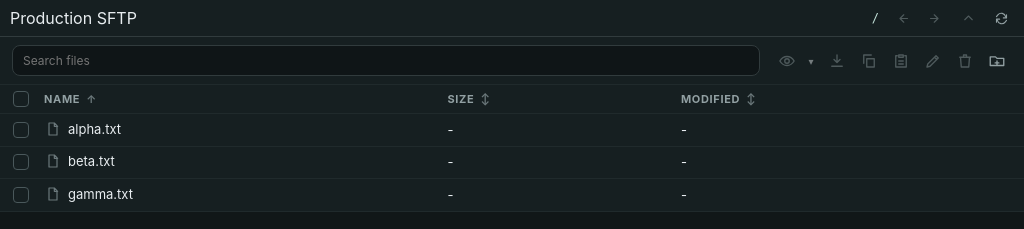
Test: RemoteFilePane › ヘッダーの全選択と検索で表示範囲を絞り込める
Click the checkbox named "Select all" at (21, 99), box [13,91,29,107]
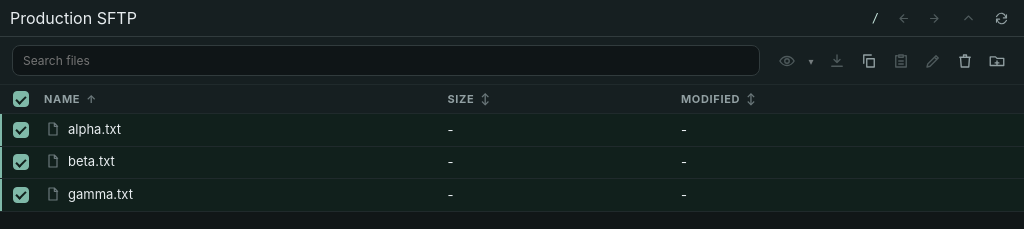
Check: the checkbox named "Select alpha.txt" is checked, box [13,122,29,138]
Check: the checkbox named "Select beta.txt" is checked, box [13,154,29,170]
Check: the checkbox named "Select gamma.txt" is checked, box [13,187,29,203]
Type "beta" into the field with placeholder "Search files" at (386, 60), box [12,45,760,76]
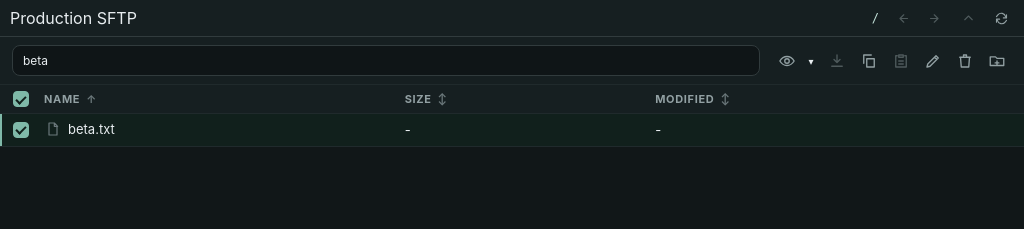
Check: the text "beta.txt" is shown, box [68,120,115,136]
Check: the text "alpha.txt" is gone
Check: the text "gamma.txt" is gone
Click the checkbox named "Select all" at (21, 99), box [13,91,29,107]
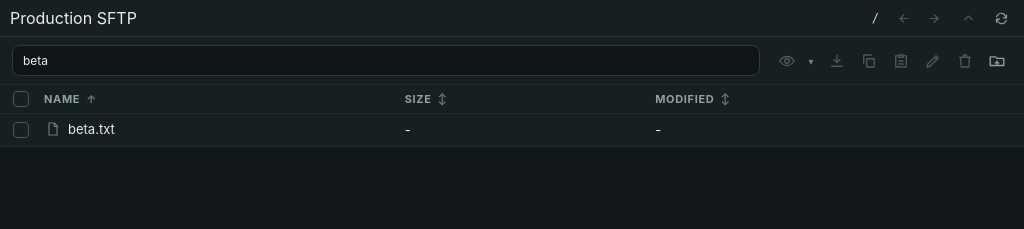
Check: the checkbox named "Select beta.txt" is not checked, box [13,122,29,138]
